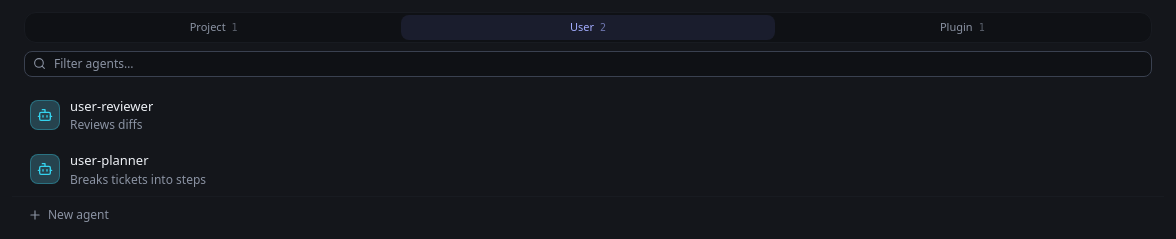
Test: AgentsZone › clears the filter when switching tabs
Type "reviewer" into the field labelled "Filter agents" at (598, 64), box [54,56,1143,72]
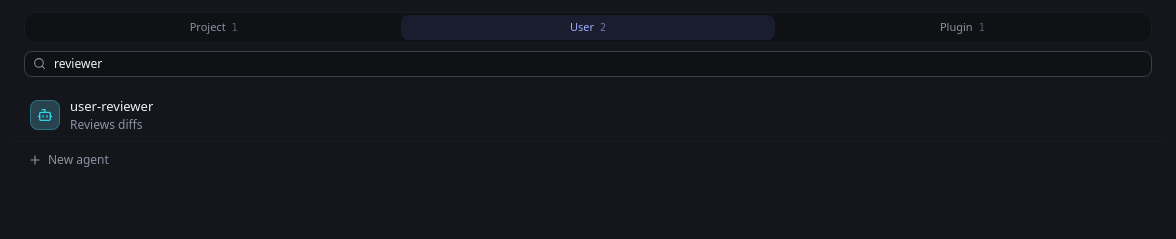
Click the tab "Plugin 1" at (962, 27), box [776,15,1149,40]
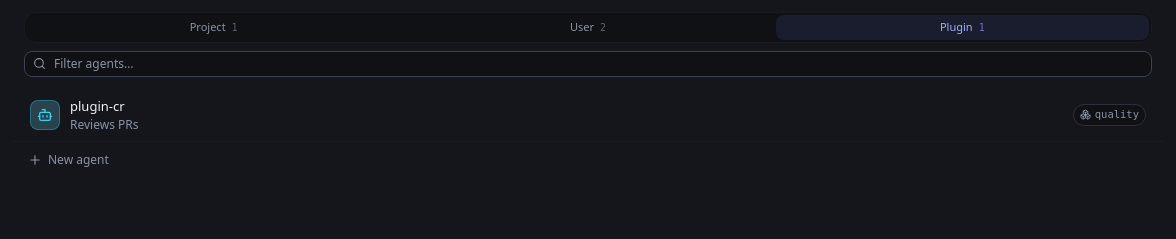
Result: the field labelled "Filter agents" is empty at [54,56,1143,72]
Result: the text "plugin-cr" is shown at [70,96,125,116]
